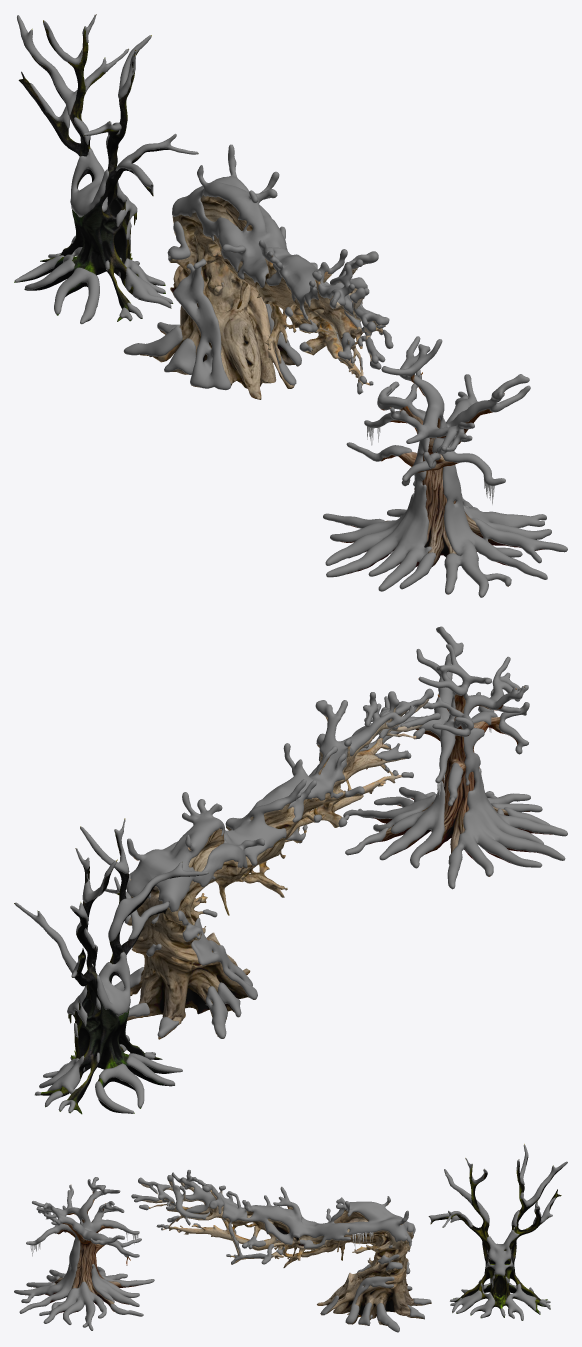
File: uploads_files_6644689_fbx.fbx
3 views of the same model, one above another, from view 1: azimuth 30°, elevation 25°; view 2: azimuth 150°, elevation 25°; view 3: azimuth 270°, elevation 25° (orthographic). The views are drawn at different scales.
Visible parts, largest first — view 1: SM_snow_16, SM_snow_08, SM_tree_26, SM_snow_28, SM_tree_25, SM_tree_13; view 2: SM_snow_08, SM_snow_16, SM_tree_26, SM_snow_28, SM_tree_25, SM_tree_13; view 3: SM_snow_08, SM_tree_26, SM_snow_16, SM_snow_28, SM_tree_25, SM_tree_13.
Part boxes in pixels (left/top/right/bottom): SM_snow_16: left=323, top=336, right=567, bottom=597; SM_snow_08: left=123, top=144, right=393, bottom=394; SM_tree_26: left=124, top=195, right=385, bottom=399; SM_snow_28: left=14, top=15, right=197, bottom=324; SM_tree_25: left=14, top=14, right=198, bottom=321; SM_tree_13: left=340, top=372, right=544, bottom=594; SM_snow_08: left=114, top=688, right=440, bottom=1038; SM_snow_16: left=343, top=626, right=567, bottom=889; SM_tree_26: left=127, top=698, right=429, bottom=1039; SM_snow_28: left=15, top=819, right=207, bottom=1113; SM_tree_25: left=14, top=818, right=208, bottom=1114; SM_tree_13: left=366, top=678, right=552, bottom=876; SM_snow_08: left=131, top=1170, right=431, bottom=1332; SM_tree_26: left=141, top=1181, right=431, bottom=1325; SM_snow_16: left=14, top=1177, right=154, bottom=1330; SM_snow_28: left=429, top=1145, right=567, bottom=1320; SM_tree_25: left=428, top=1144, right=562, bottom=1320; SM_tree_13: left=25, top=1184, right=138, bottom=1314.
Size of the model in its own units: 401 by 441 by 1439.
